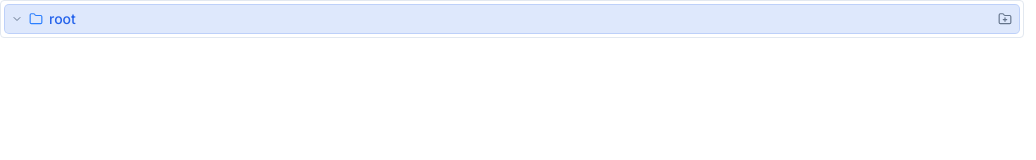
Test: FolderTreePicker › zeigt einen Validierungsfehler bei leerem Namen und ruft die API nicht auf
Expected: the text "root" is shown, top-left (49, 9), bottom-right (76, 29)
Click the button named "Neuer Unterordner" at (1005, 19), box top-left (995, 9), bottom-right (1015, 29)
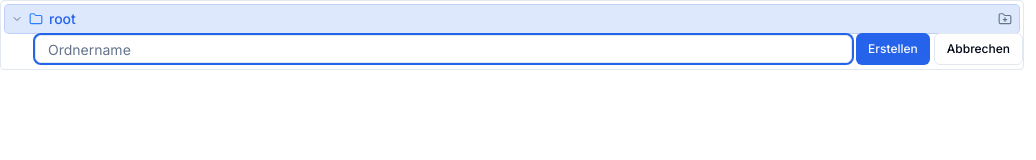
Click the button "Erstellen" at (893, 49), box top-left (856, 33), bottom-right (930, 65)
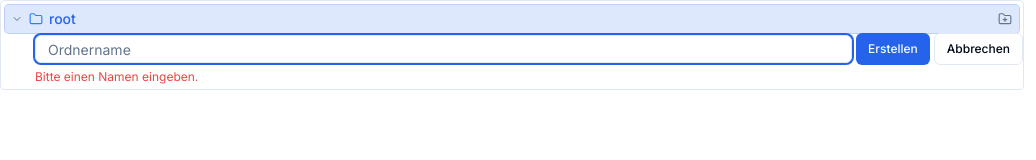
Result: the text "Bitte einen Namen eingeben." is shown at top-left (35, 69), bottom-right (198, 84)
